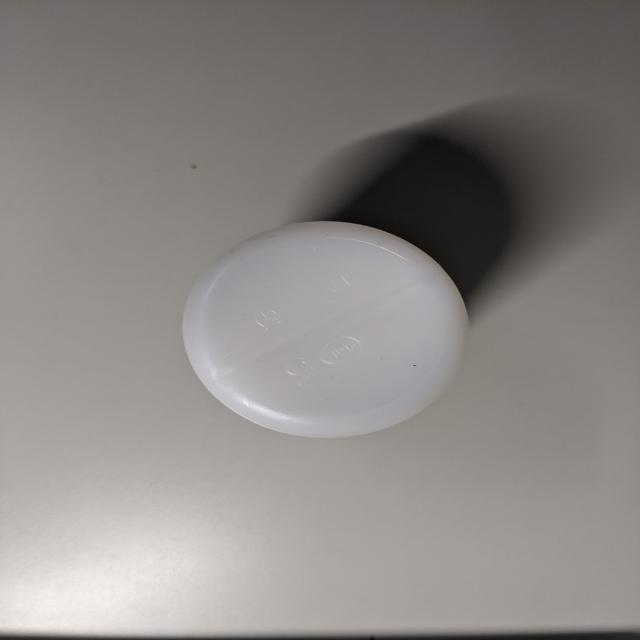Plastic: (187, 220, 473, 448)
